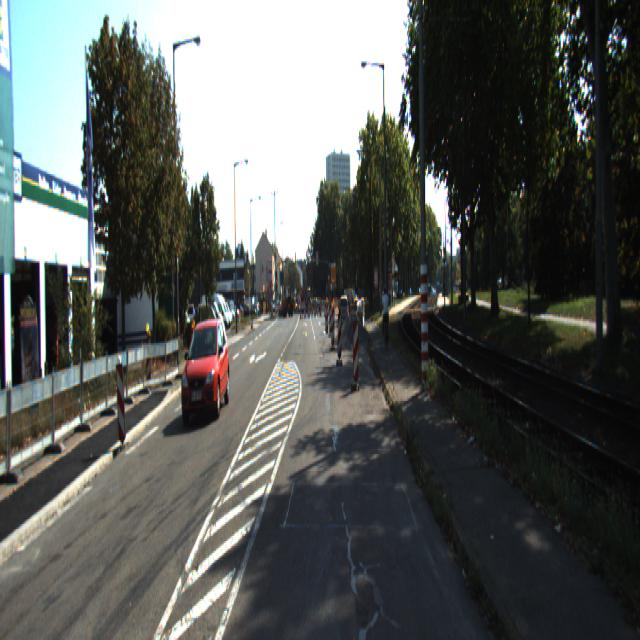Car: (177, 313, 234, 421)
